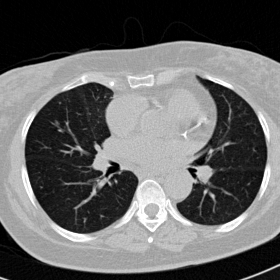nodule: (54, 121, 58, 125)
